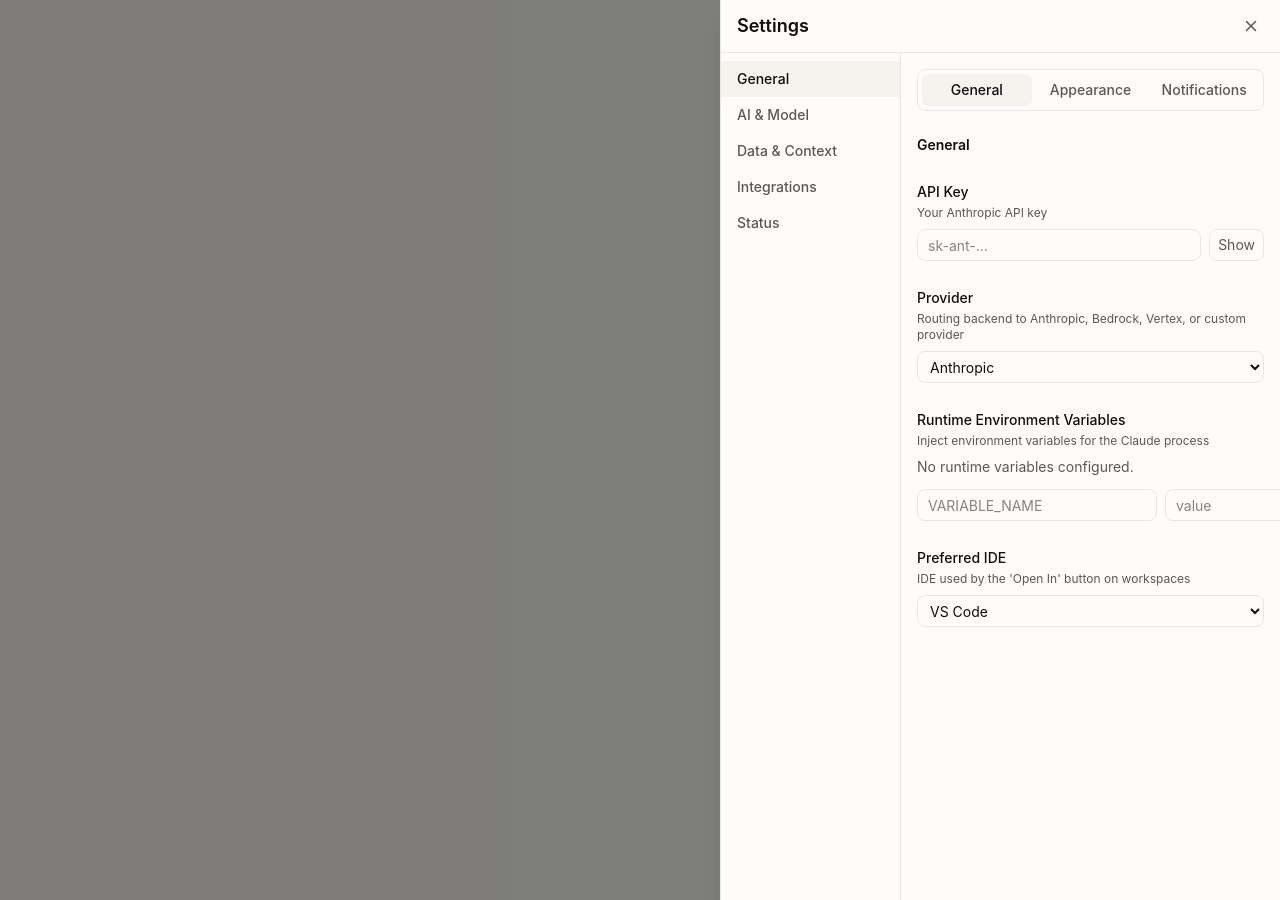
Scenario: SettingsPanel › renders default max tokens value
Note: Navigate to AI & Model group where the model tab lives
Click the tab "AI & Model".
click(810, 115)  # box [721,97,900,133]
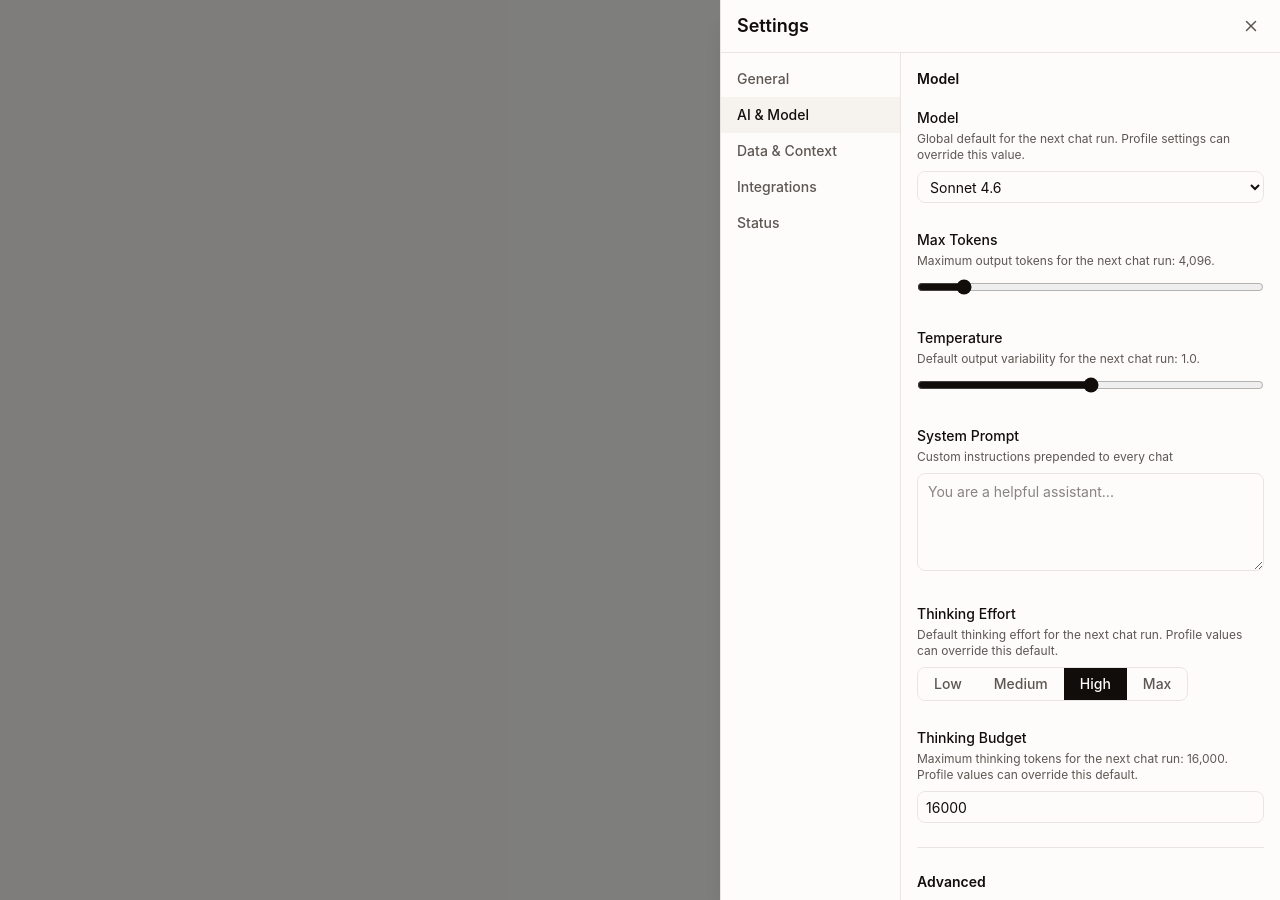
Result: the slider with test id "max-tokens-slider" holds "4096" at [917,279,1264,295]
